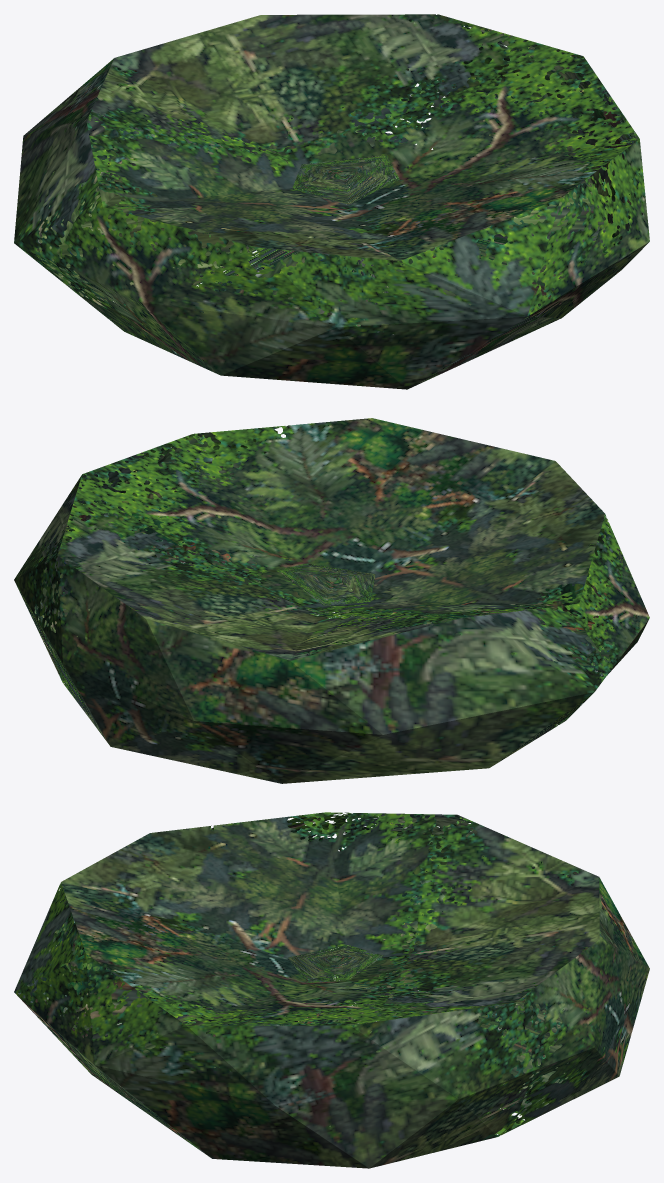
The model's file is MTree_2_Bch_2.gltf.
3 views of the same model, one above another, from view 1: azimuth 30°, elevation 25°; view 2: azimuth 150°, elevation 25°; view 3: azimuth 270°, elevation 25° (orthographic). The views are drawn at different scales.
Visible parts, largest first — view 1: MTree_2_Bch_2; view 2: MTree_2_Bch_2; view 3: MTree_2_Bch_2.
Boxes of the visible parts, x1,y1,x2,y2 form: MTree_2_Bch_2: [14, 14, 649, 389]; MTree_2_Bch_2: [14, 418, 649, 783]; MTree_2_Bch_2: [14, 812, 649, 1168].
Bounding box in the file's own units: 7.52 × 1.98 × 7.57.
1 material, 1 textured.
